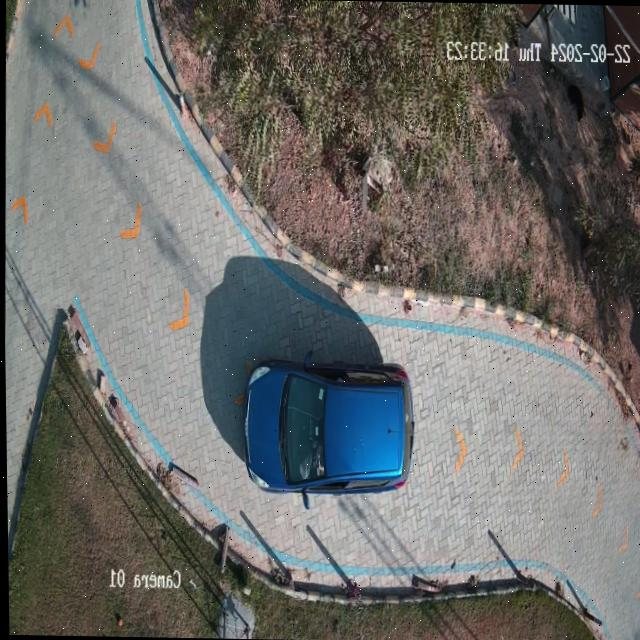car: (240, 357, 413, 495)
